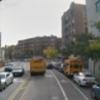buses: (62, 59, 84, 78), (29, 58, 46, 76)
cars: (90, 81, 100, 100), (11, 66, 25, 78)
